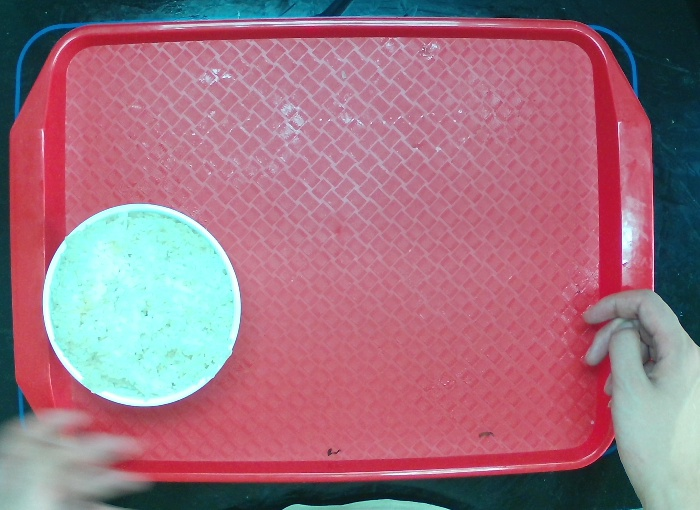YKMZ-Fan_Wan: (36, 202, 243, 409)
